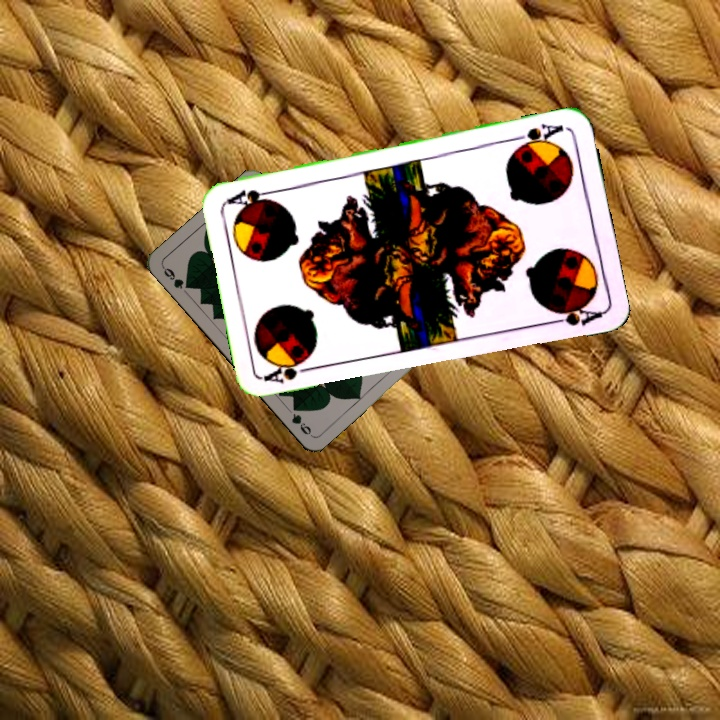G9: (158, 263, 194, 292)
SA: (509, 119, 567, 152), (260, 355, 319, 386)
